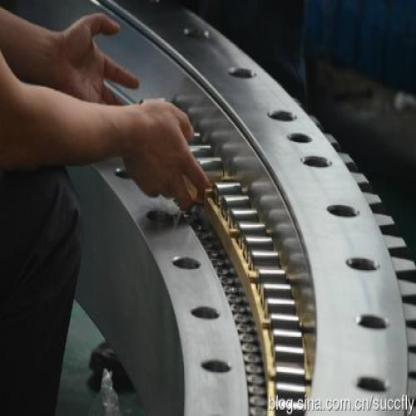FOD: (0, 222, 411, 415)
